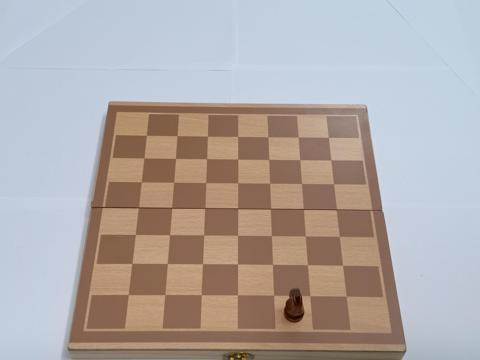xcorner: (333, 206, 343, 216), (327, 156, 337, 166), (304, 262, 314, 272), (302, 233, 312, 243), (233, 292, 243, 302), (233, 261, 243, 271), (233, 232, 243, 242), (233, 179, 243, 189), (202, 131, 212, 141), (162, 260, 172, 270), (164, 231, 174, 241), (141, 130, 151, 140), (336, 234, 346, 243), (330, 181, 340, 190), (325, 133, 334, 143), (307, 293, 316, 303), (300, 206, 310, 215), (298, 180, 307, 190), (296, 156, 306, 165), (294, 133, 304, 142), (270, 293, 280, 302), (267, 205, 276, 215), (265, 155, 274, 165), (264, 132, 273, 142), (233, 205, 243, 214), (233, 155, 243, 164), (233, 132, 243, 141), (200, 204, 209, 214), (202, 154, 211, 164), (160, 291, 169, 301), (166, 204, 176, 213), (168, 178, 178, 187), (170, 154, 180, 163), (123, 291, 133, 300), (133, 203, 142, 213), (136, 177, 145, 187), (139, 153, 148, 163), (344, 294, 353, 303), (340, 263, 349, 272), (269, 262, 278, 271), (268, 233, 277, 242), (266, 180, 275, 189), (197, 292, 206, 301), (198, 261, 207, 270), (199, 232, 208, 241), (201, 179, 210, 188), (172, 131, 181, 140), (127, 260, 136, 269), (130, 231, 139, 240)
